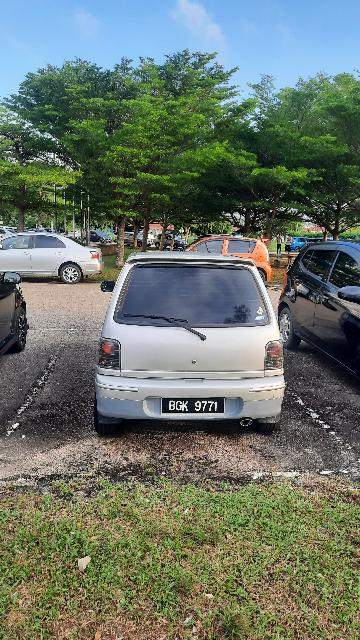License_Plate: (159, 394, 228, 417)
car: (90, 246, 286, 438)
